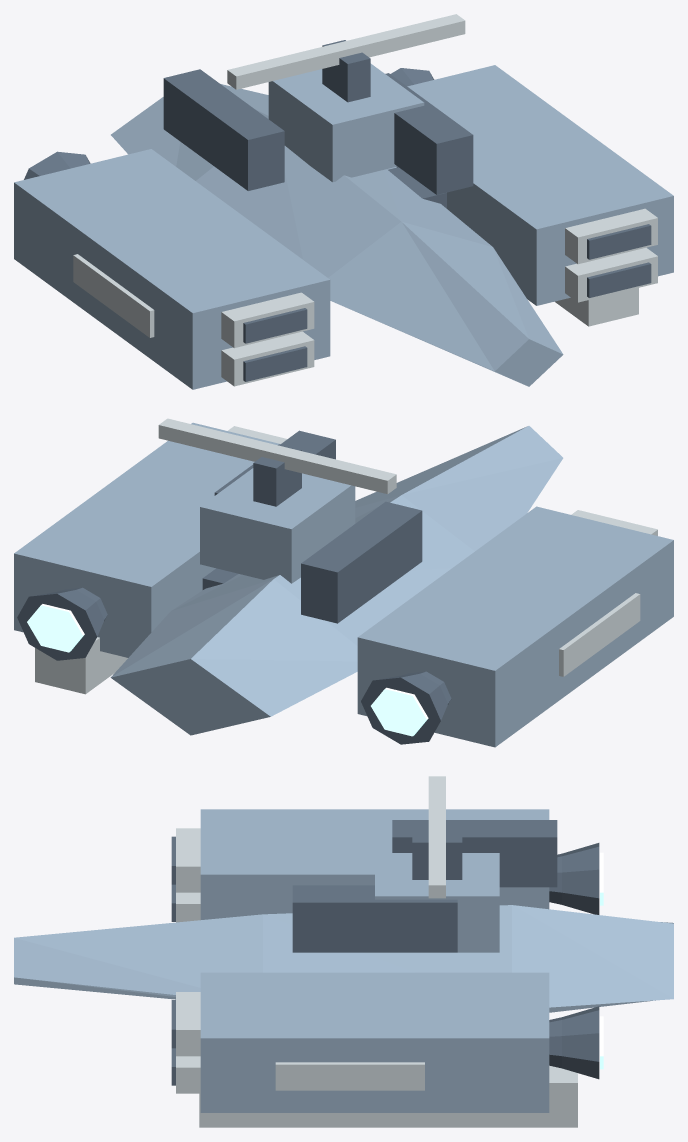
3 views of the same model, one above another, from view 1: azimuth 30°, elevation 25°; view 2: azimuth 150°, elevation 25°; view 3: azimuth 270°, elevation 25° (orthographic). The views are drawn at different scales.
Bounding box in the file's own units: 8.03 × 3.46 × 9.6.
